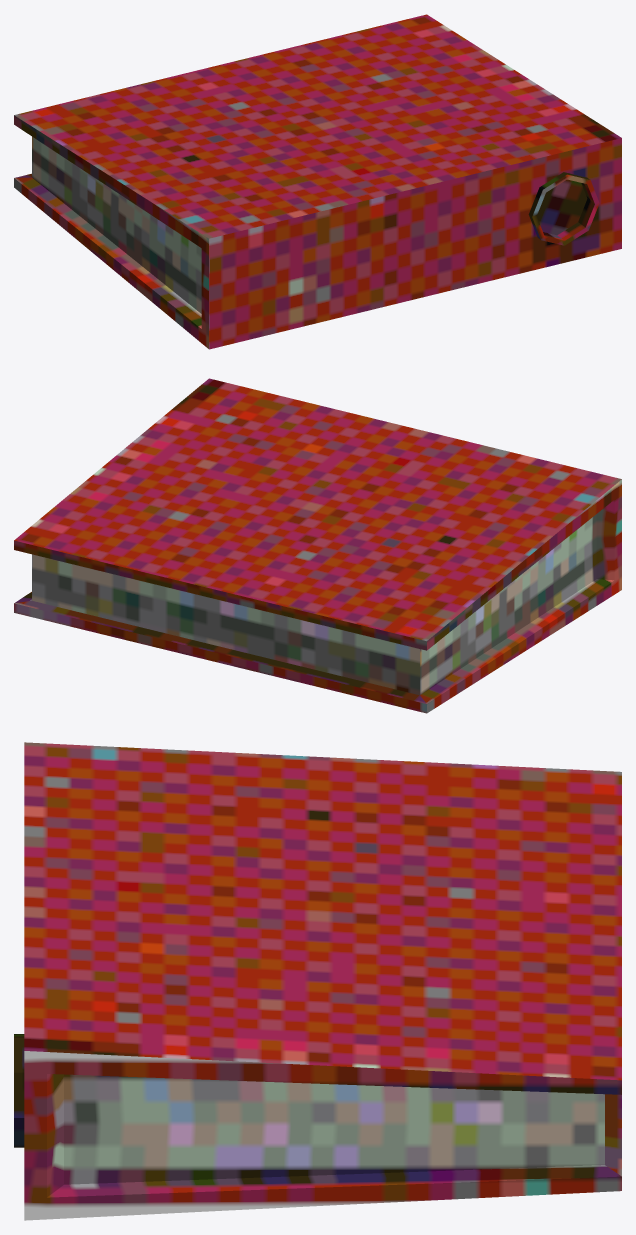
File: Carpeta_1.fbx
3 renders of one model, top to bottom at view 1: azimuth 30°, elevation 25°; view 2: azimuth 150°, elevation 25°; view 3: azimuth 270°, elevation 25°, orthographic. The views are drawn at different scales.
Visible parts, largest first — view 1: Carpeta3; view 2: Carpeta3; view 3: Carpeta3.
Part boxes in pixels (x1=…): Carpeta3: x1=14, y1=14, x2=621, y2=349; Carpeta3: x1=14, y1=378, x2=621, y2=713; Carpeta3: x1=14, y1=742, x2=621, y2=1220.
Size of the model in its own units: 1.53 by 0.3918 by 1.27.
